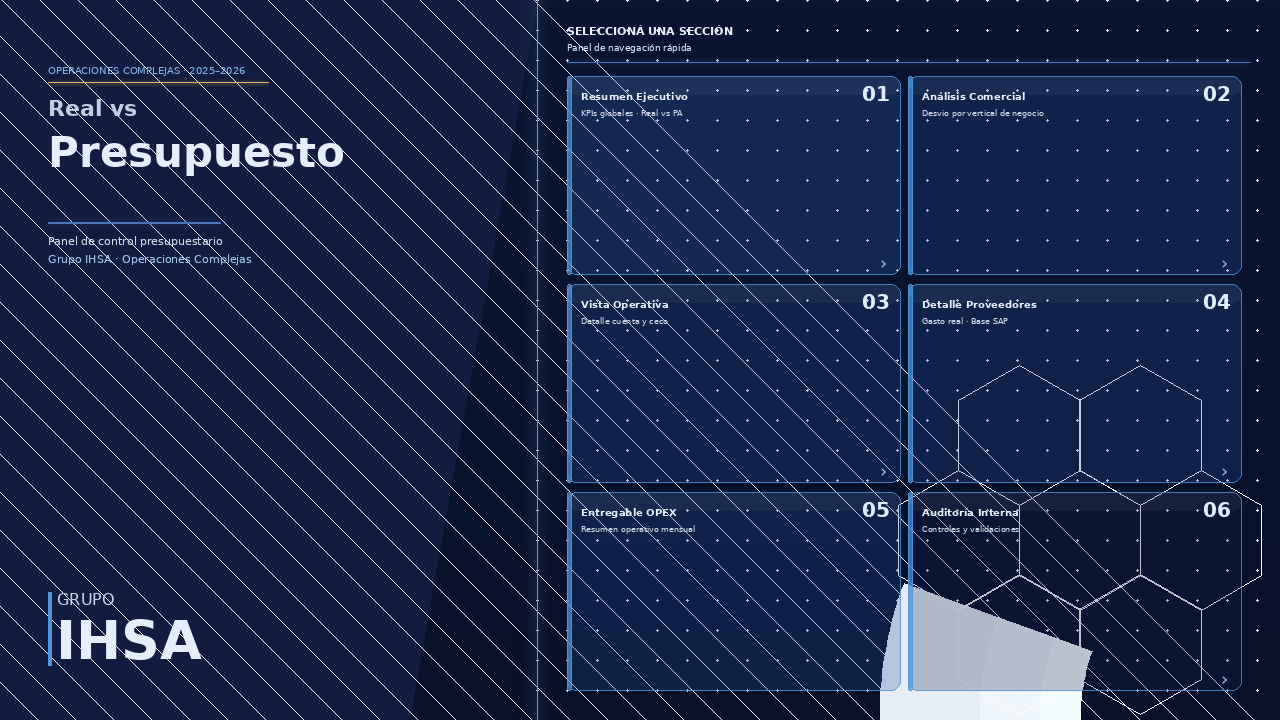

The dashboard page shown, as its layout file describes it:
{"tool":"powerbi","page":{"name":"0. Índice","canvas":[1280,720],"ordinal":0},"visuals":[{"type":"pageNavigator","box":[544,64,736,640],"z":0},{"type":"image","box":[0,240,496,480],"z":1000}]}

Visuals, with their boxes in screenshot pixels (x1, y1, x2, y2), scaled from the page's 1280x720 canvas onto the 1280x720 screenshot:
pageNavigator: 544, 64, 1279, 704
image: 0, 240, 496, 719
